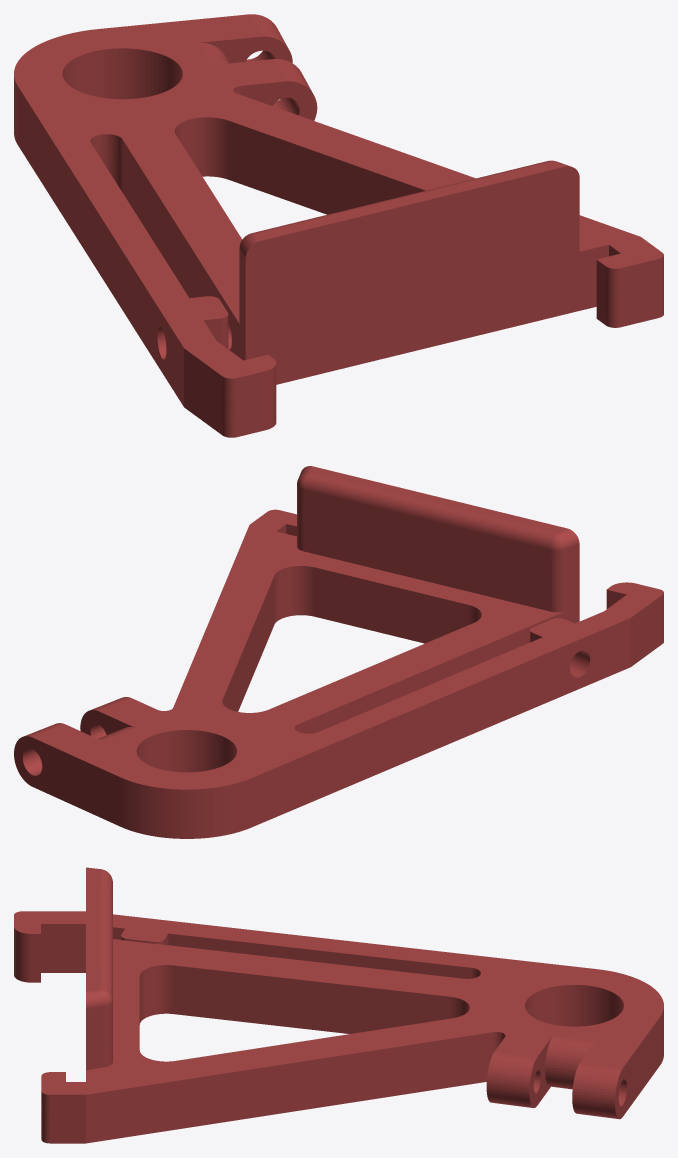
Rendered from Bracket-12.glb.
3 renders of one model, top to bottom at view 1: azimuth 30°, elevation 25°; view 2: azimuth 150°, elevation 25°; view 3: azimuth 270°, elevation 25°, orthographic. The views are drawn at different scales.
Size of the model in its own units: 48.5 by 15 by 72.59.
